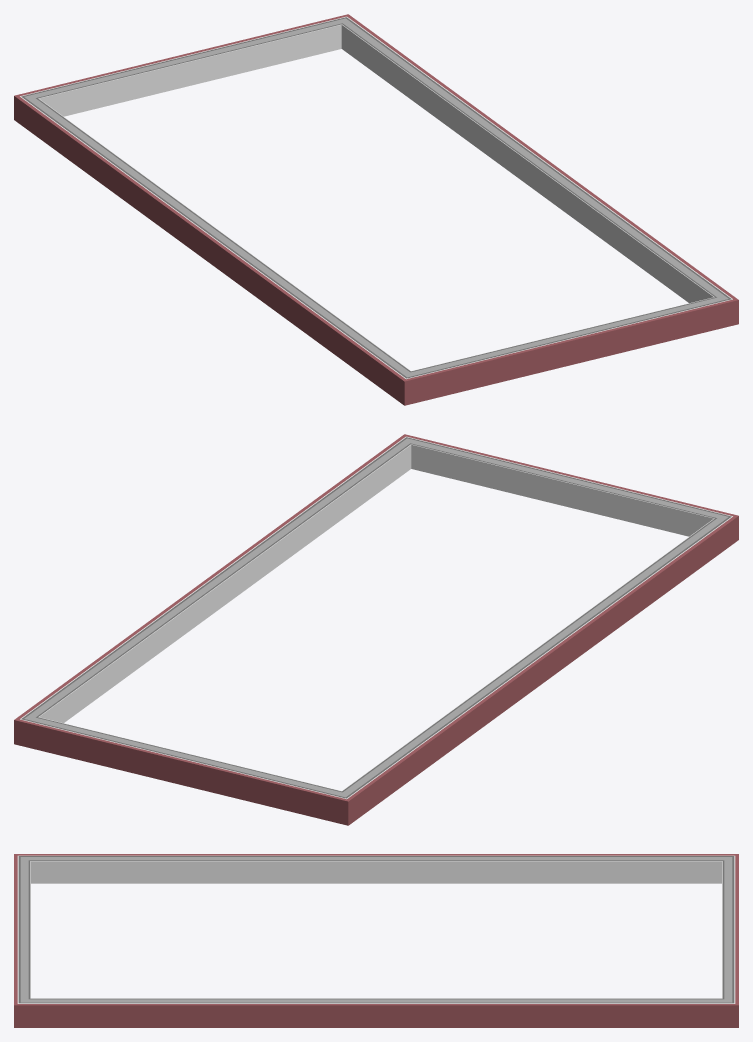
The model's file is Duplex_Roof_IfcWallStandardCase.dae.
3 views of the same model, one above another, from view 1: azimuth 30°, elevation 25°; view 2: azimuth 150°, elevation 25°; view 3: azimuth 270°, elevation 25° (orthographic). The views are drawn at different scales.
Visible parts, largest first — view 1: 0jf0rYHfX3RAB3bSIRjmpw, 0jf0rYHfX3RAB3bSIRjmr1, 0jf0rYHfX3RAB3bSIRjmoa, 0jf0rYHfX3RAB3bSIRjmmy; view 2: 0jf0rYHfX3RAB3bSIRjmr1, 0jf0rYHfX3RAB3bSIRjmpw, 0jf0rYHfX3RAB3bSIRjmmy, 0jf0rYHfX3RAB3bSIRjmoa; view 3: 0jf0rYHfX3RAB3bSIRjmpw, 0jf0rYHfX3RAB3bSIRjmr1, 0jf0rYHfX3RAB3bSIRjmmy, 0jf0rYHfX3RAB3bSIRjmoa.
Part boxes in pixels (box(x1,y1,x2,y2)): 0jf0rYHfX3RAB3bSIRjmpw: box(341, 21, 738, 327); 0jf0rYHfX3RAB3bSIRjmr1: box(23, 98, 410, 398); 0jf0rYHfX3RAB3bSIRjmoa: box(395, 297, 722, 405); 0jf0rYHfX3RAB3bSIRjmmy: box(14, 14, 357, 126); 0jf0rYHfX3RAB3bSIRjmr1: box(342, 518, 729, 818); 0jf0rYHfX3RAB3bSIRjmpw: box(23, 434, 419, 723); 0jf0rYHfX3RAB3bSIRjmmy: box(14, 713, 357, 825); 0jf0rYHfX3RAB3bSIRjmoa: box(411, 438, 738, 546); 0jf0rYHfX3RAB3bSIRjmpw: box(14, 998, 721, 1027); 0jf0rYHfX3RAB3bSIRjmr1: box(31, 854, 721, 883); 0jf0rYHfX3RAB3bSIRjmmy: box(722, 854, 738, 1027); 0jf0rYHfX3RAB3bSIRjmoa: box(14, 854, 30, 998).
Size of the model in its own units: 8.8 by 17.8 by 0.609.
